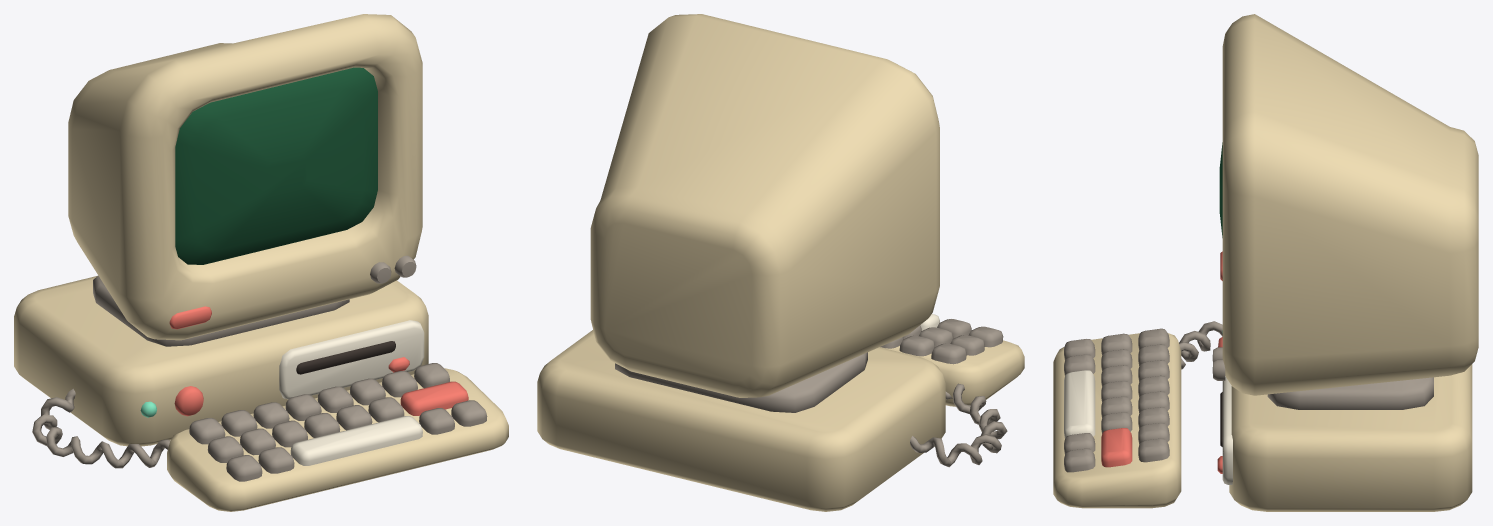
File: ShopPC.fbx
3 renders of one model, left to right at view 1: azimuth 30°, elevation 25°; view 2: azimuth 150°, elevation 25°; view 3: azimuth 270°, elevation 25°, orthographic.
Parts seen in each view (by area): view 1: ShopPC; view 2: ShopPC; view 3: ShopPC.
Part boxes in pixels (x1,y1,x2,y2): ShopPC: (14,14,508,511); ShopPC: (537,14,1024,511); ShopPC: (1053,14,1478,511).
Size of the model in its own units: 0.6857 by 0.64 by 0.665.
